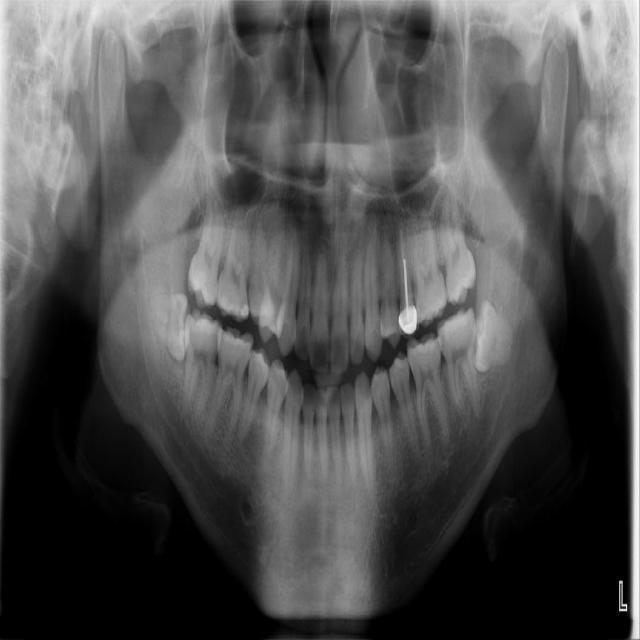Filling: (398, 306, 418, 339), (238, 302, 249, 320)
Root Canal Treatment: (402, 241, 408, 305)
impacted tooth: (142, 295, 188, 362), (472, 299, 513, 372)
